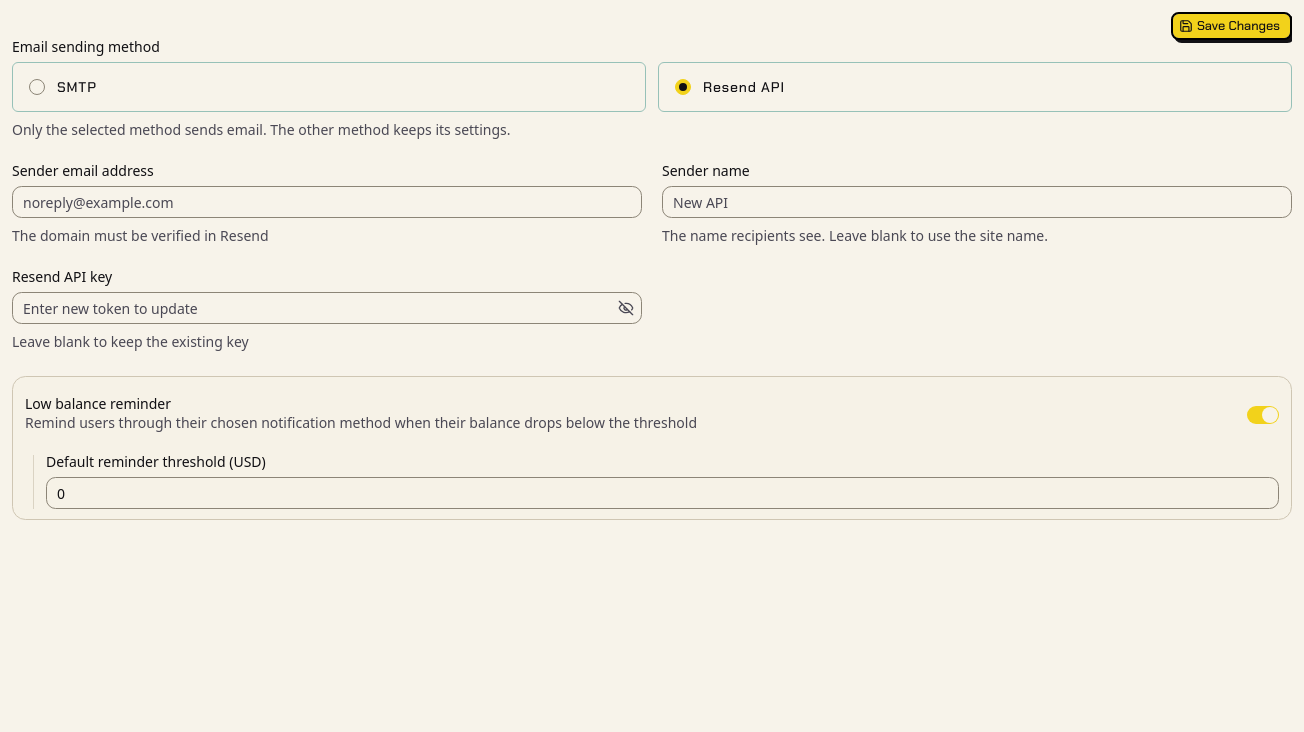
Scenario: email delivery settings › rejects an empty Resend sender without submitting settings
What coordinates should you click on to do the following:
click the button "Save Changes"
I would click on:
 (1231, 26)
Its box is x1=1171 y1=12 x2=1292 y2=40.
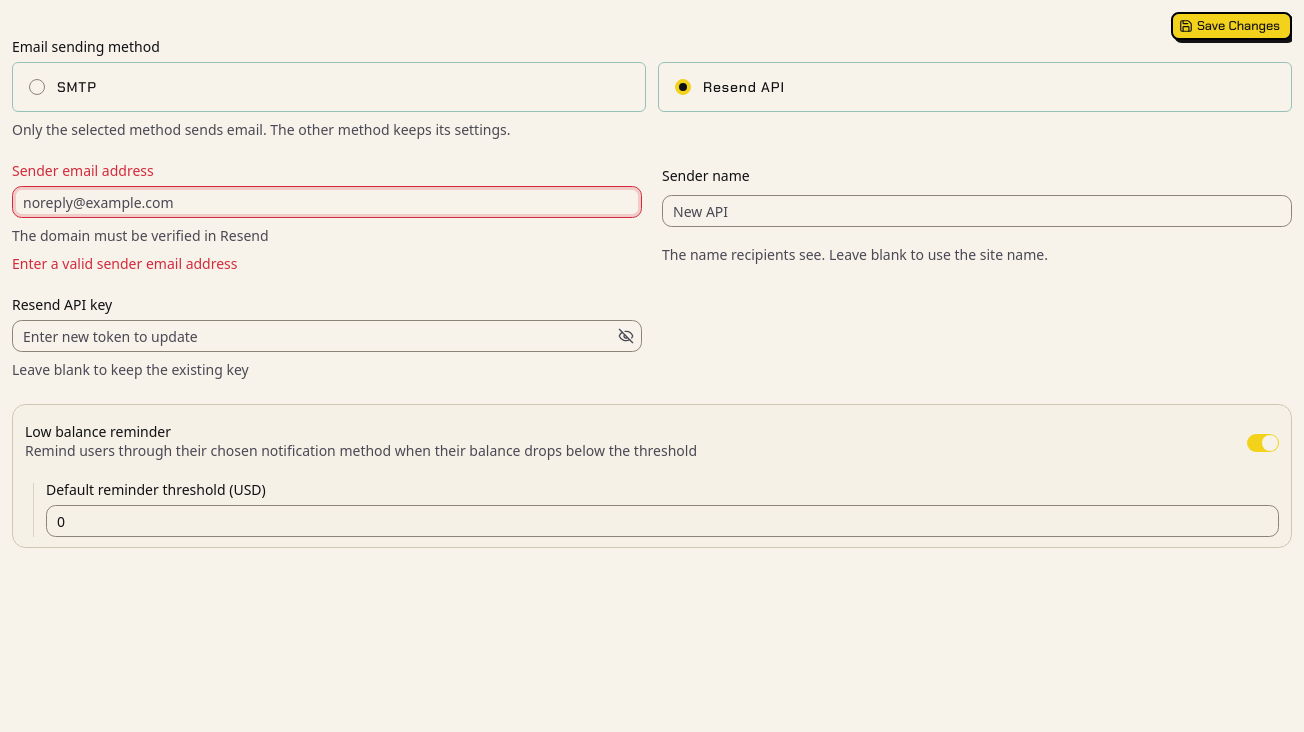
Expected: the text "Enter a valid sender email address" is shown, x1=12 y1=254 x2=238 y2=273
